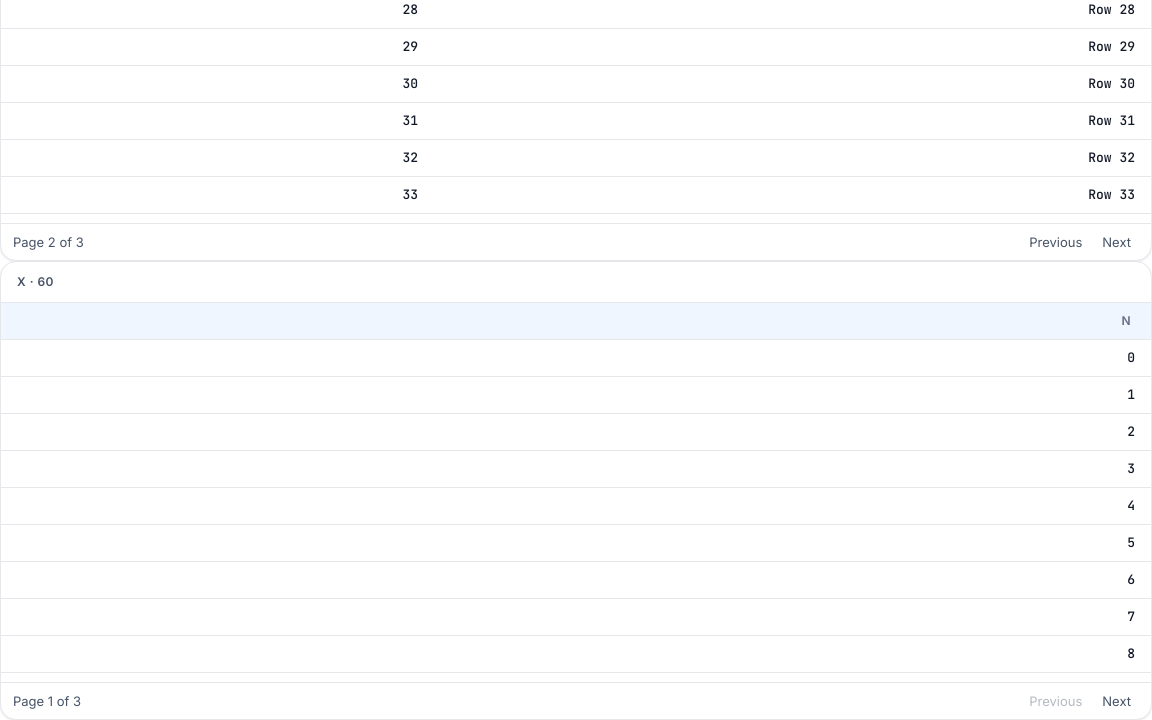
Test: TableBlock — pagination and sticky header (only past the row-count threshold) › resets to page 1 when sorting changes
(page scrolled)
Click the 2nd button "Next" at (1117, 701), box x1=1094 y1=689 x2=1139 y2=713
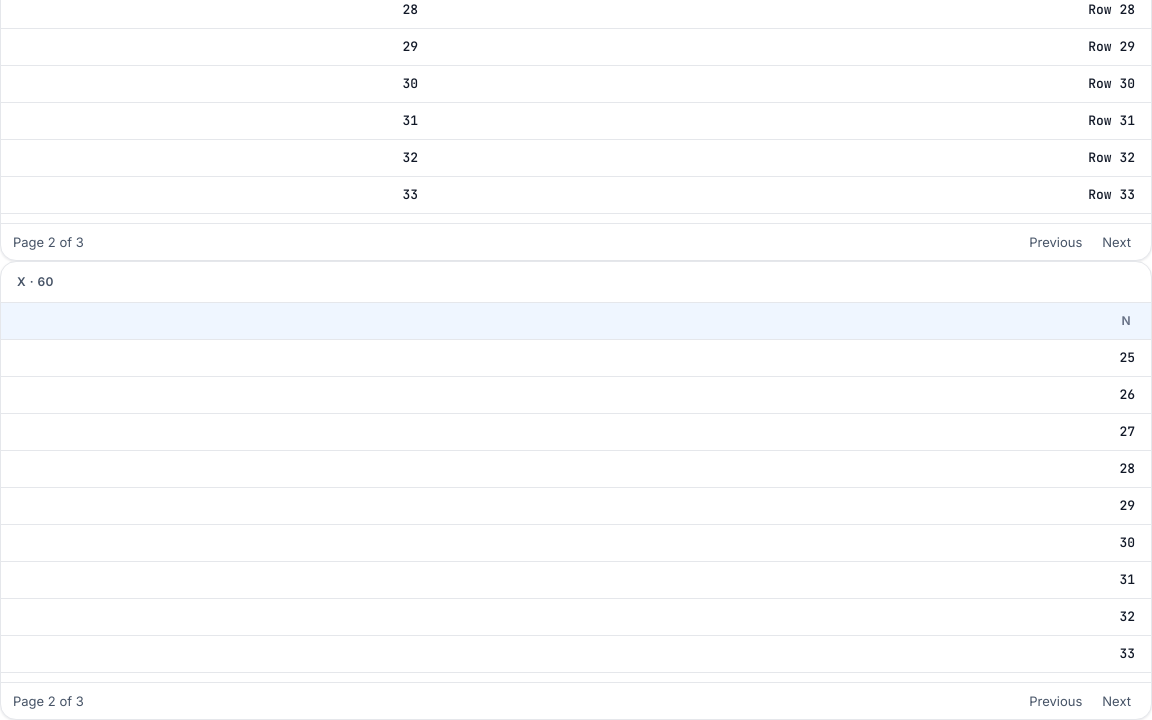
Expected: the text "Page 2 of 3" is shown, x1=13 y1=232 x2=84 y2=252
Click the button "N" at (1126, 320), box x1=17 y1=311 x2=1135 y2=331
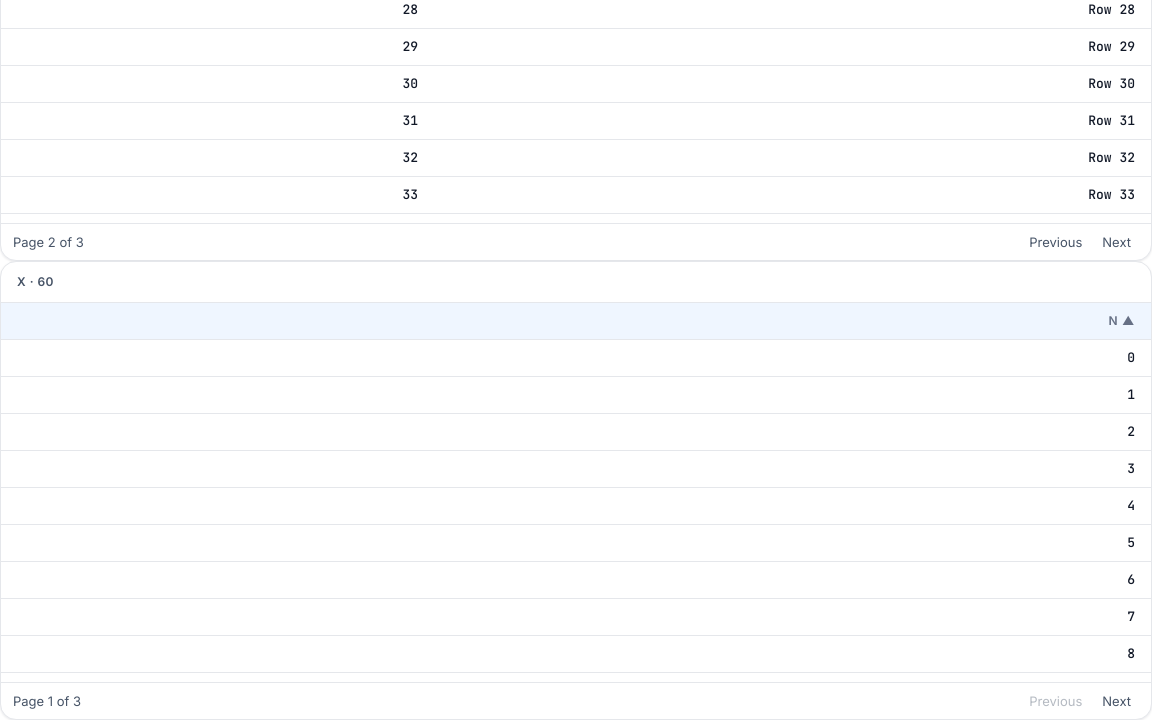
Result: the text "Page 1 of 3" is shown at x1=13 y1=691 x2=81 y2=711
